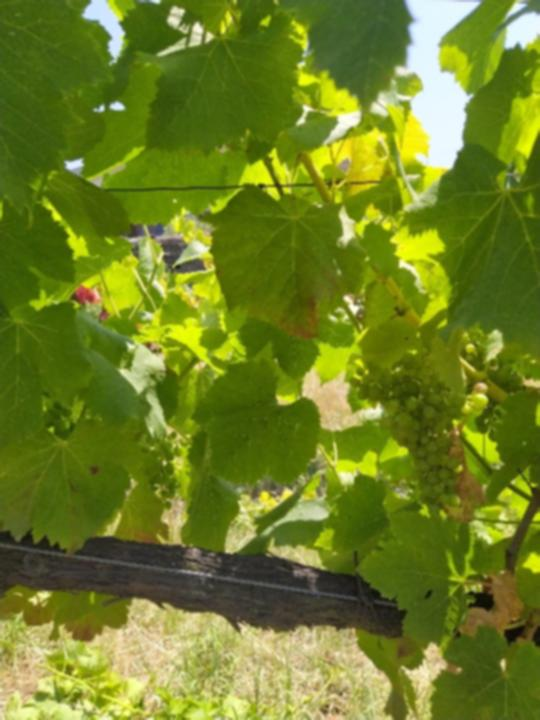grape: (350, 350, 490, 518), (140, 432, 191, 512)
